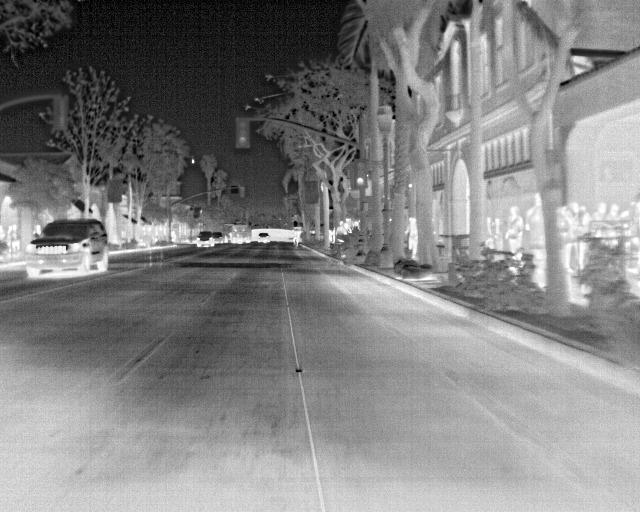bicycle: (24, 218, 111, 279), (192, 229, 218, 248), (256, 230, 274, 245)
empty: (521, 191, 545, 247), (502, 205, 522, 254), (405, 216, 421, 261), (591, 200, 610, 219), (9, 223, 21, 253), (31, 222, 45, 241), (605, 204, 622, 219)
